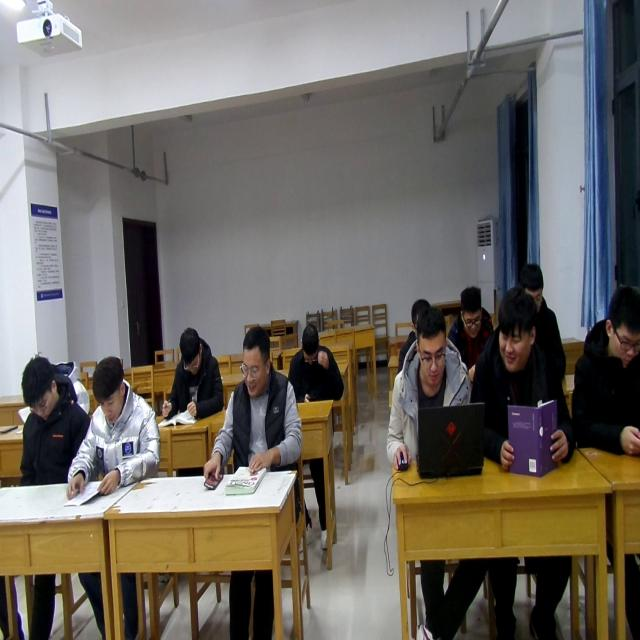down: (492, 287, 538, 372), (411, 304, 451, 391), (603, 285, 639, 372), (18, 351, 62, 422), (91, 350, 130, 426), (237, 322, 273, 403), (458, 281, 486, 346), (175, 324, 204, 385), (518, 260, 546, 312), (296, 317, 324, 363)
sit: (470, 290, 573, 470), (201, 326, 305, 490), (386, 303, 474, 473), (64, 354, 162, 502), (573, 285, 640, 458), (16, 349, 91, 491), (514, 262, 570, 382), (160, 326, 225, 421), (446, 281, 499, 389), (287, 321, 347, 403)
